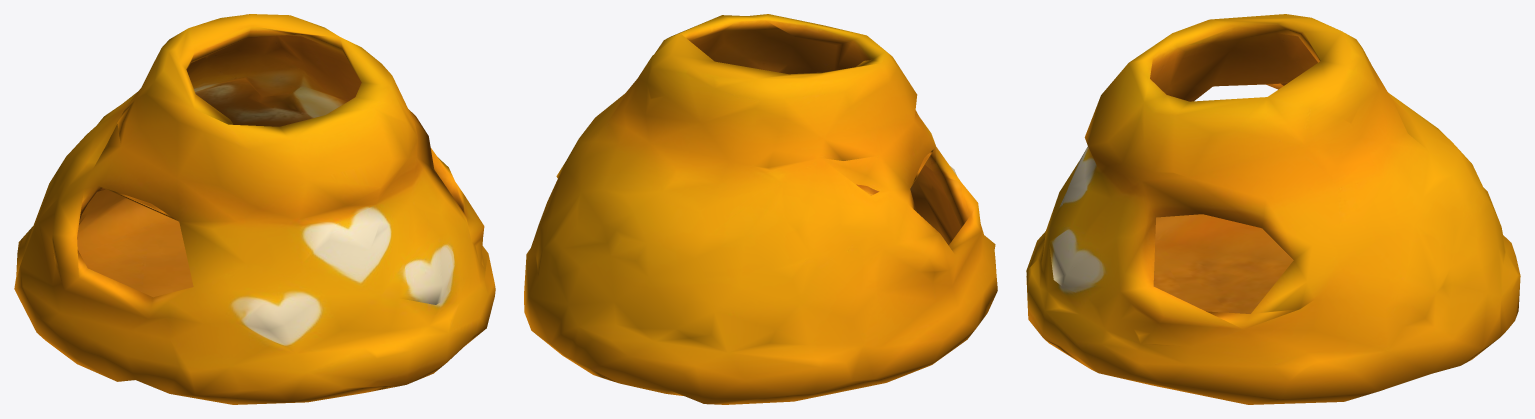
File: knit-body.glb
3 views of the same model, side by side, from view 1: azimuth 30°, elevation 25°; view 2: azimuth 150°, elevation 25°; view 3: azimuth 270°, elevation 25° (orthographic).
Visible parts, largest first — view 1: tripo_node_7a319093; view 2: tripo_node_7a319093; view 3: tripo_node_7a319093.
Boxes of the visible parts, <box> form: tripo_node_7a319093: <box>14,14,495,404</box>; tripo_node_7a319093: <box>524,14,997,404</box>; tripo_node_7a319093: <box>1026,14,1520,404</box>.
Bounding box in the file's own units: 0.5368 × 0.3296 × 0.5572.
Materials: 1 (1 with a texture image).
